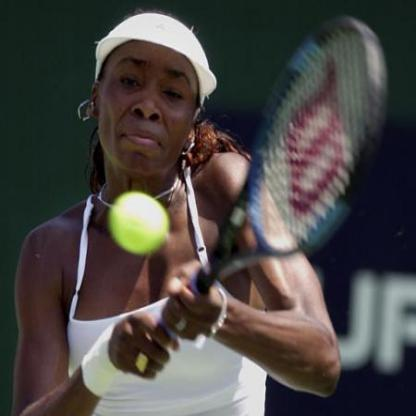face: (101, 13, 201, 181)
